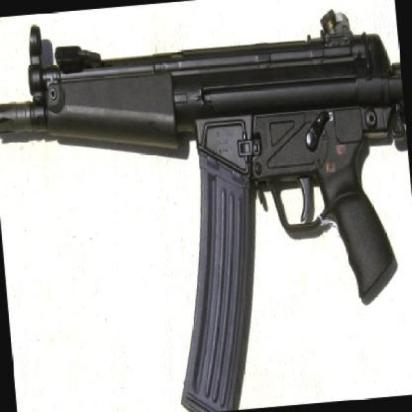Gun: (0, 0, 412, 381)
